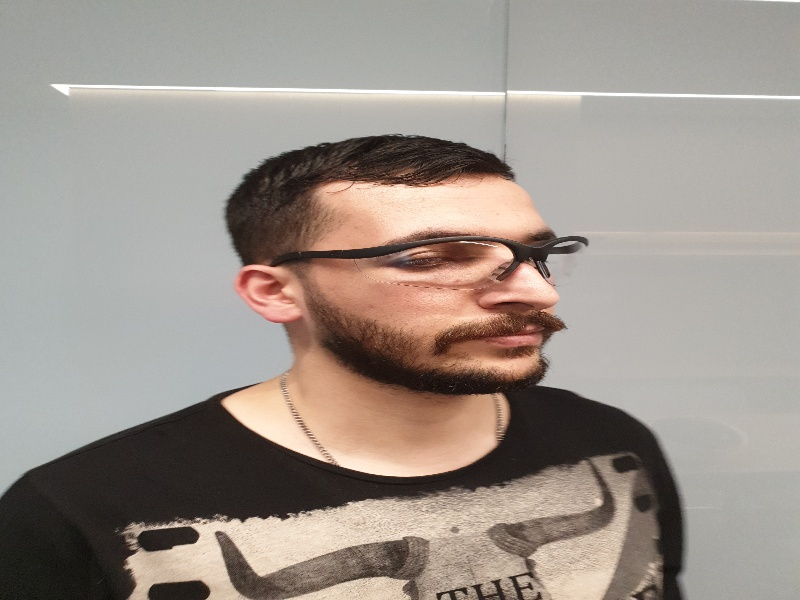Gozluk: (299, 236, 592, 285)
